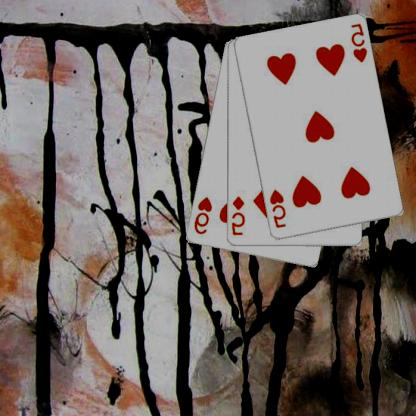5D: (231, 194, 248, 237)
5H: (268, 187, 289, 230), (350, 22, 370, 64)
6H: (192, 194, 214, 236)
